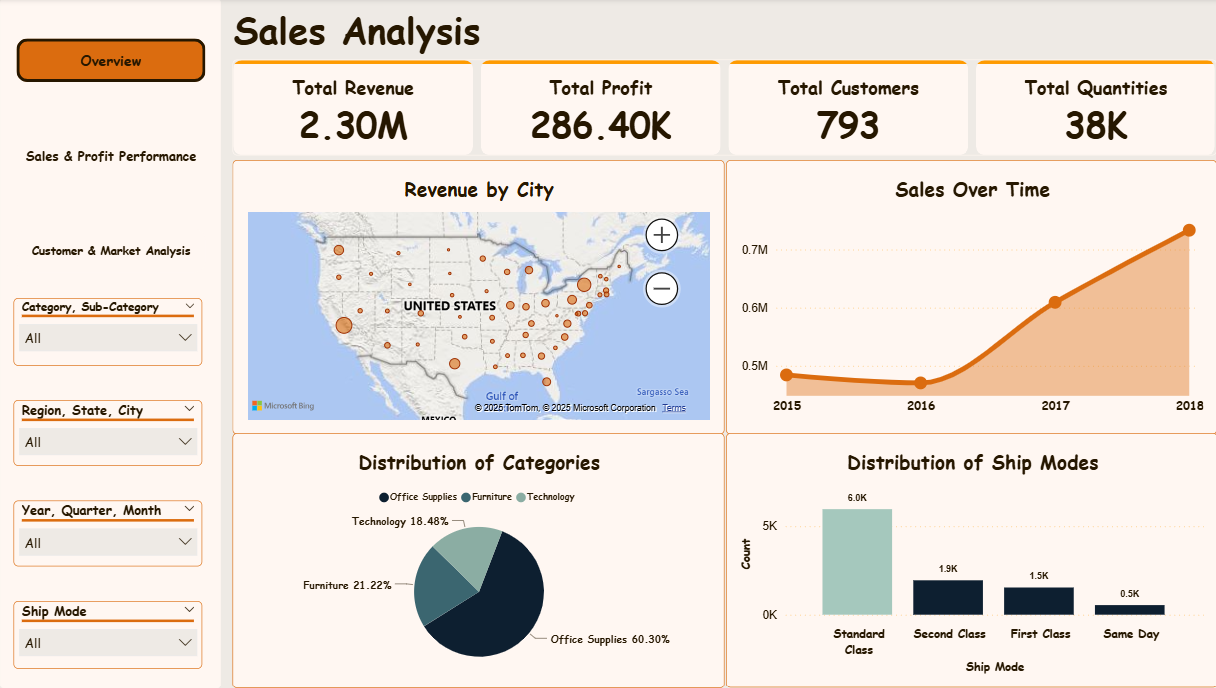

Layout of this report page (visuals, bound fields, positions):
{"tool":"powerbi","page":{"name":"Overview","canvas":[1280,720],"ordinal":0},"visuals":[{"type":"textbox","box":[211,6.3,334.5,57.8],"z":0},{"type":"shape","box":[0,0,229.8,720.5],"z":1000},{"type":"actionButton","box":[17.2,141.5,196.9,45.3],"z":2000},{"type":"actionButton","box":[17.2,240.7,196.9,45.3],"z":3000},{"type":"cardVisual","fields":{"Data":["Sum(Table 1 (Sheet1).Sales)","Sum(Table 1 (Sheet1).Profit)","Count(Table 1 (Sheet1).Customer ID)","Sum(Table 1 (Sheet1).Quantity)"]},"box":[242.3,64.1,1026.9,100],"z":4000},{"type":"actionButton","box":[17.2,42.2,196.9,45.3],"z":5000},{"type":"slicer","fields":{"Values":["Table 1 (Sheet1).Ship Mode"]},"box":[14.1,628.3,196.9,70.3],"z":6000},{"type":"slicer","fields":{"Values":["Table 1 (Sheet1).Region","Table 1 (Sheet1).State","Table 1 (Sheet1).City"]},"box":[14.1,418.9,196.9,68.8],"z":7000},{"type":"slicer","fields":{"Values":["Table 1 (Sheet1).Category","Table 1 (Sheet1).Sub-Category"]},"box":[14.1,312.6,196.9,70.3],"z":8000},{"type":"slicer","fields":{"Values":["Table 1 (Sheet1).Order Date.Variation.Date Hierarchy.Year","Table 1 (Sheet1).Order Date.Variation.Date Hierarchy.Quarter","Table 1 (Sheet1).Order Date.Variation.Date Hierarchy.Month"]},"box":[14.1,523.6,196.9,68.8],"z":9000},{"type":"map","title":"Revenue by City","fields":{"Category":["Table 1 (Sheet1).Region Hierarchy.Region","Table 1 (Sheet1).Region Hierarchy.State","Table 1 (Sheet1).Region Hierarchy.City"],"Size":["Sum(Table 1 (Sheet1).Sales)"]},"box":[242.9,168.3,512.7,285.7],"z":11000},{"type":"lineChart","title":"Sales Over Time","fields":{"Category":["Table 1 (Sheet1).Order Date.Variation.Date Hierarchy.Year","Table 1 (Sheet1).Order Date.Variation.Date Hierarchy.Quarter","Table 1 (Sheet1).Order Date.Variation.Date Hierarchy.Month","Table 1 (Sheet1).Order Date.Variation.Date Hierarchy.Day"],"Y":["Sum(Table 1 (Sheet1).Sales)"]},"box":[757.1,168.3,512.7,285.7],"z":12000},{"type":"pieChart","title":"Distribution of Categories","fields":{"Category":["Table 1 (Sheet1).Category"],"Y":["CountNonNull(Table 1 (Sheet1).Category)"]},"box":[242.9,454,512.7,266.7],"z":13000},{"type":"clusteredColumnChart","title":"Distribution of Ship Modes","fields":{"Category":["Table 1 (Sheet1).Ship Mode"],"Y":["CountNonNull(Table 1 (Sheet1).Ship Mode)"]},"box":[757,454,513,266],"z":14000}]}

Visuals, with their boxes in screenshot pixels (x1, y1, x2, y2), scaled from the page's 1280x720 canvas onto the 1216x688 screenshot:
textbox: l=200, t=6, r=518, b=61
shape: l=0, t=0, r=218, b=687
actionButton: l=16, t=135, r=203, b=178
actionButton: l=16, t=230, r=203, b=273
cardVisual - Sum(Table 1 (Sheet1).Sales) x Sum(Table 1 (Sheet1).Profit): l=230, t=61, r=1206, b=157
actionButton: l=16, t=40, r=203, b=84
slicer - Table 1 (Sheet1).Ship Mode: l=13, t=600, r=200, b=668
slicer - Table 1 (Sheet1).Region x Table 1 (Sheet1).State: l=13, t=400, r=200, b=466
slicer - Table 1 (Sheet1).Category x Table 1 (Sheet1).Sub-Category: l=13, t=299, r=200, b=366
slicer - Table 1 (Sheet1).Order Date.Variation.Date Hierarchy.Year x Table 1 (Sheet1).Order Date.Variation.Date Hierarchy.Quarter: l=13, t=500, r=200, b=566
"Revenue by City" map: l=231, t=161, r=718, b=434
"Sales Over Time" lineChart: l=719, t=161, r=1206, b=434
"Distribution of Categories" pieChart: l=231, t=434, r=718, b=687
"Distribution of Ship Modes" clusteredColumnChart: l=719, t=434, r=1206, b=687
